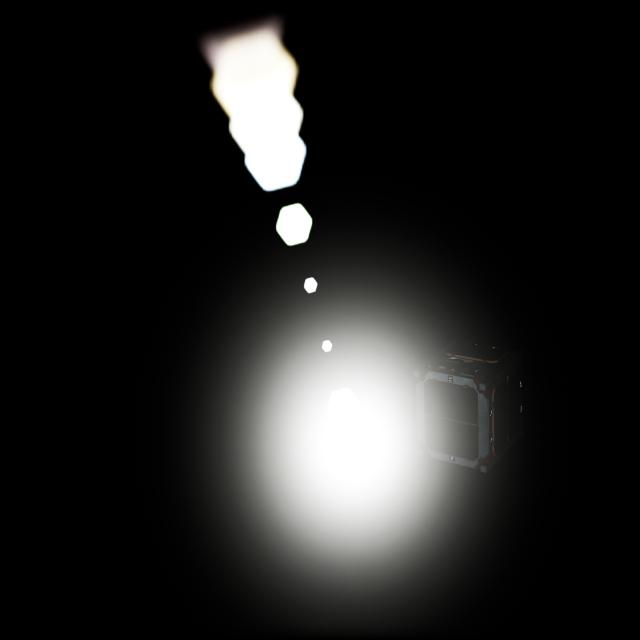satellite: (414, 347, 528, 473)
